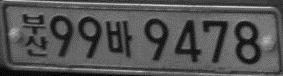4: (174, 19, 202, 62)
7: (202, 19, 228, 63)
8: (234, 20, 261, 64)
9: (143, 17, 169, 61), (48, 14, 73, 56), (77, 16, 102, 58)
바: (105, 19, 132, 57)
부산_V: (21, 13, 47, 57)
